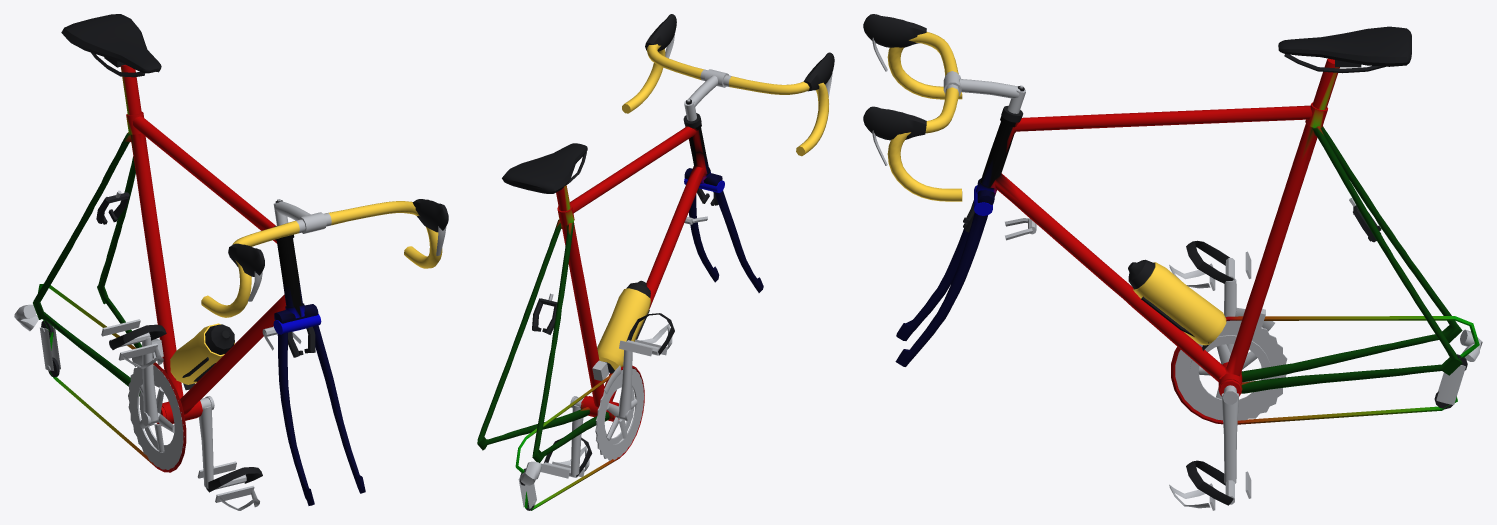
The model's file is steel.glb.
3 renders of one model, left to right at view 1: azimuth 30°, elevation 25°; view 2: azimuth 150°, elevation 25°; view 3: azimuth 270°, elevation 25°, orthographic. The views are drawn at different scales.
Parts seen in each view (by area): view 1: frame, cockpit, crankset, saddle, opt_bottles, opt_derailleur, opt_brakes_rim, pedal_R, opt_toeclips_L, opt_toeclips_R, pedal_L; view 2: frame, cockpit, crankset, saddle, opt_bottles, opt_derailleur, opt_brakes_rim, opt_toeclips_R, pedal_R, pedal_L; view 3: frame, cockpit, crankset, saddle, opt_bottles, opt_derailleur, opt_toeclips_L, opt_toeclips_R.
Boxes of the visible parts, bbox=[...] form: frame: bbox=[33, 64, 365, 505]; cockpit: bbox=[201, 199, 448, 317]; crankset: bbox=[128, 337, 214, 488]; saddle: bbox=[61, 14, 161, 77]; opt_bottles: bbox=[170, 323, 234, 390]; opt_derailleur: bbox=[14, 304, 163, 377]; opt_brakes_rim: bbox=[96, 190, 315, 357]; pedal_R: bbox=[101, 319, 157, 360]; opt_toeclips_L: bbox=[206, 467, 262, 510]; opt_toeclips_R: bbox=[109, 324, 166, 368]; pedal_L: bbox=[197, 461, 254, 502]; frame: bbox=[477, 123, 763, 510]; cockpit: bbox=[622, 14, 834, 156]; crankset: bbox=[570, 350, 644, 475]; saddle: bbox=[502, 143, 587, 193]; opt_bottles: bbox=[597, 280, 650, 373]; opt_derailleur: bbox=[518, 360, 621, 510]; opt_brakes_rim: bbox=[532, 188, 718, 334]; opt_toeclips_R: bbox=[626, 313, 674, 355]; pedal_R: bbox=[619, 339, 667, 356]; pedal_L: bbox=[540, 461, 584, 478]; frame: bbox=[895, 58, 1479, 424]; cockpit: bbox=[863, 14, 1025, 201]; crankset: bbox=[1175, 279, 1287, 483]; saddle: bbox=[1278, 26, 1411, 73]; opt_bottles: bbox=[1128, 259, 1226, 350]; opt_derailleur: bbox=[1235, 308, 1482, 409]; opt_toeclips_L: bbox=[1169, 460, 1233, 508]; opt_toeclips_R: bbox=[1169, 240, 1233, 288].
Bounding box in the file's own units: 0.4648 × 0.8855 × 1.13.
